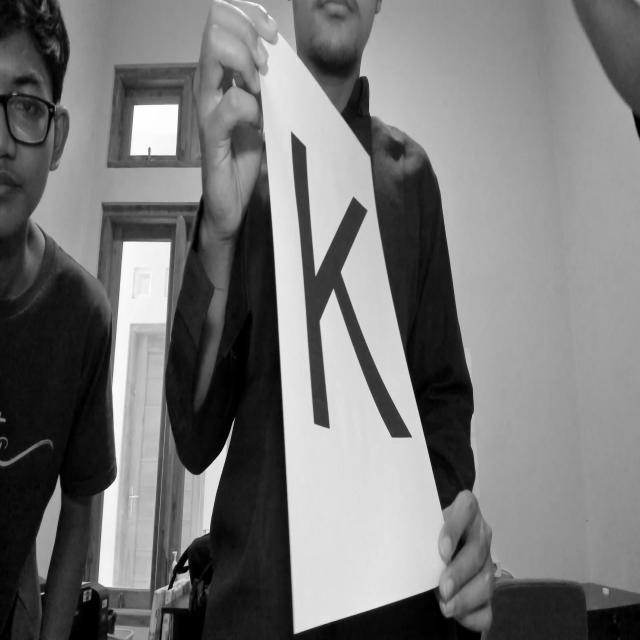k: (281, 129, 448, 486)
